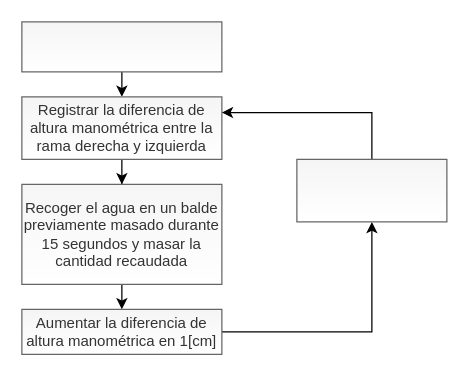
The diagram is 469 pixels wide and 376 high, and some of its shapes have lost their labels. The shapes that lost their labels are listed below. From the top down, each one's box as (x1, y1, x2, y2) in pixels, then its label:
(21, 21, 222, 72): Abrir la entrada de agua y la purga del sistema
(296, 158, 447, 222): Repetir el proceso a lo menos 6 oportunidades
